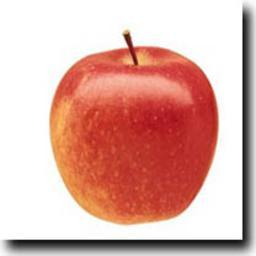apple: (47, 39, 220, 226)
